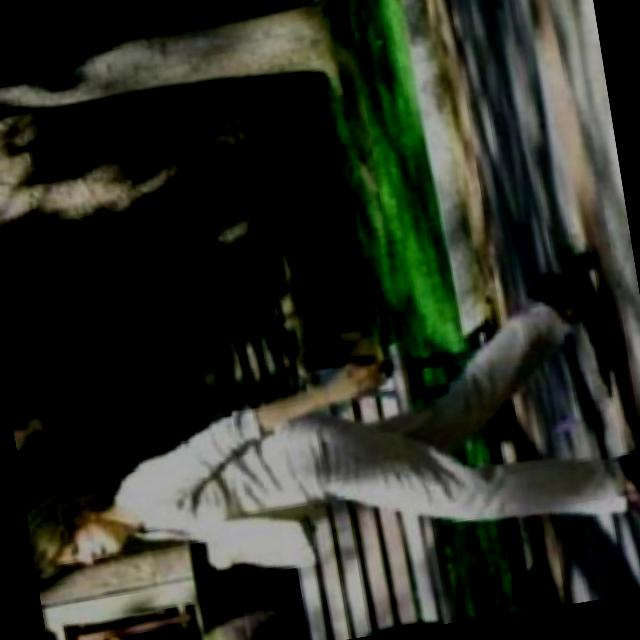Person: (4, 266, 640, 629)
